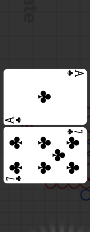7C: (5, 174, 23, 182)
AC: (5, 115, 23, 124)
